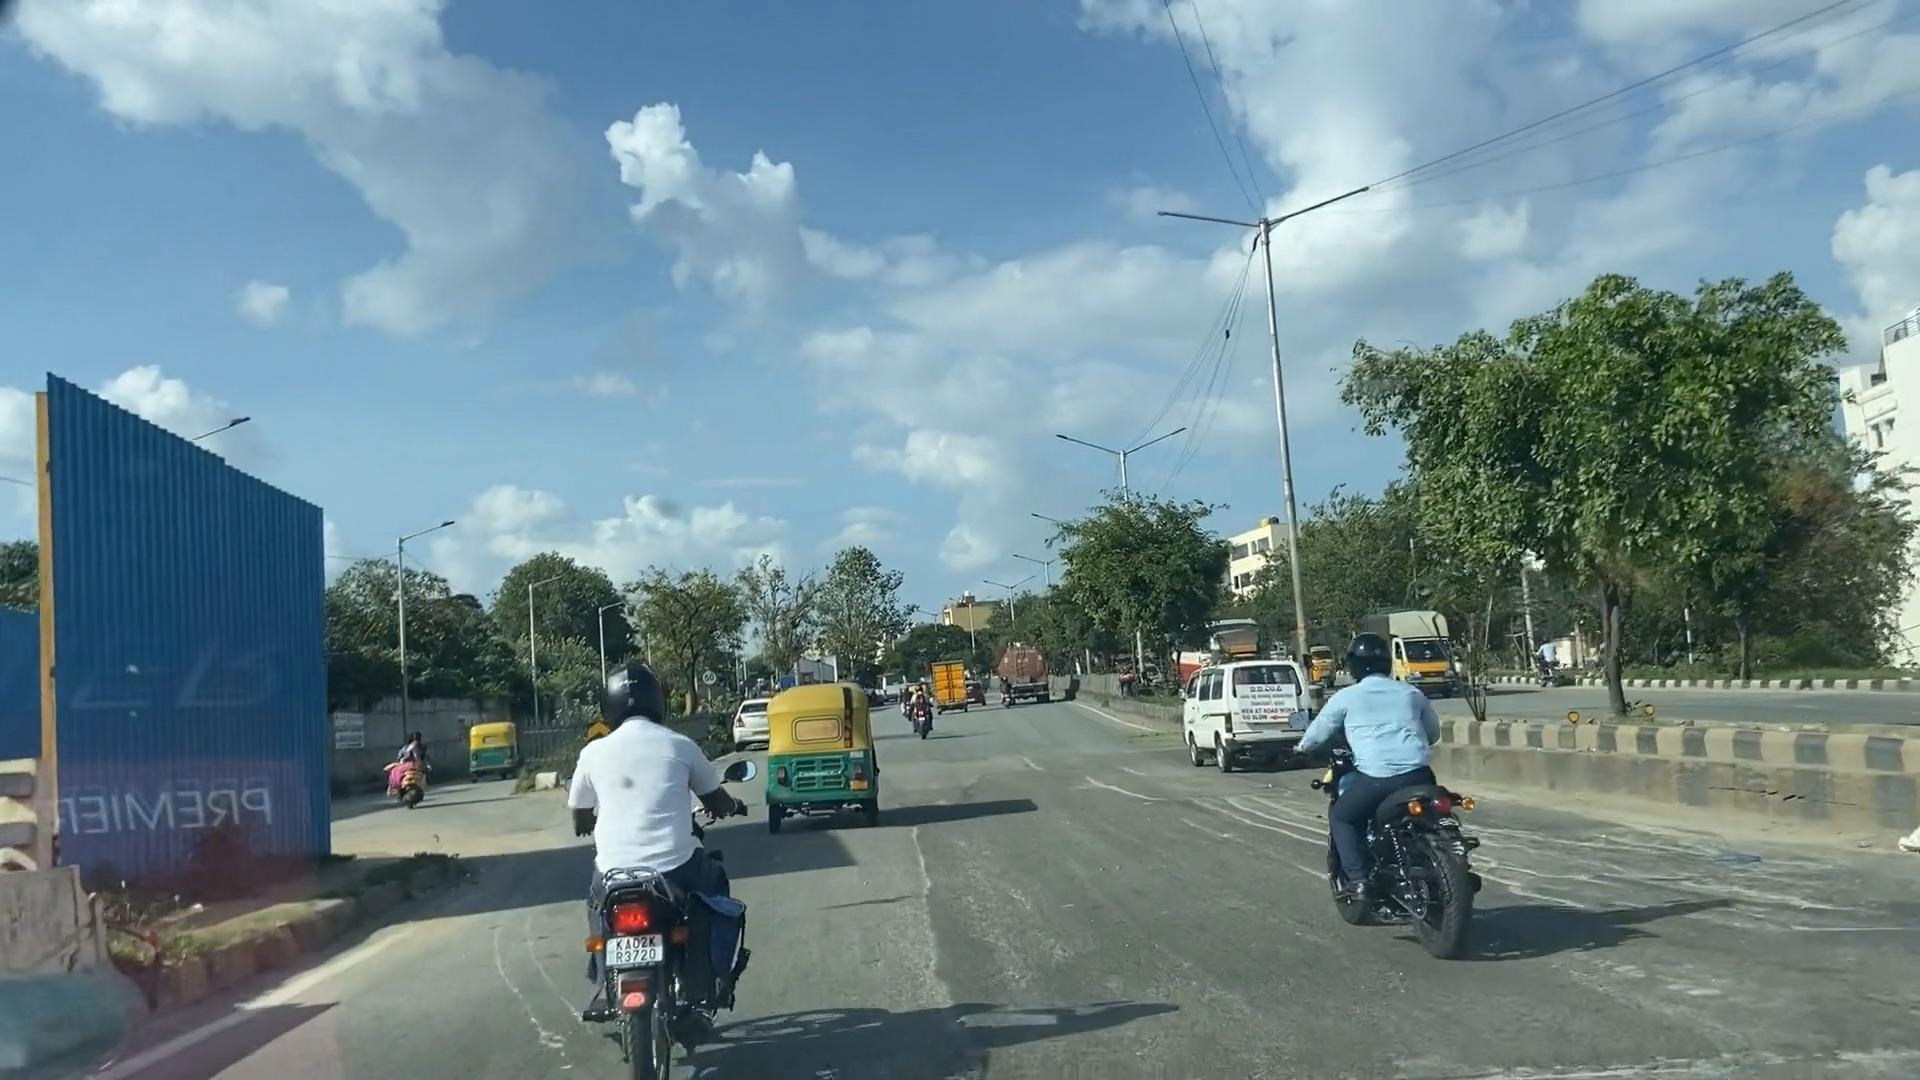RoadDamages: (1472, 807, 1817, 967), (819, 845, 982, 1059), (1175, 762, 1331, 870)
